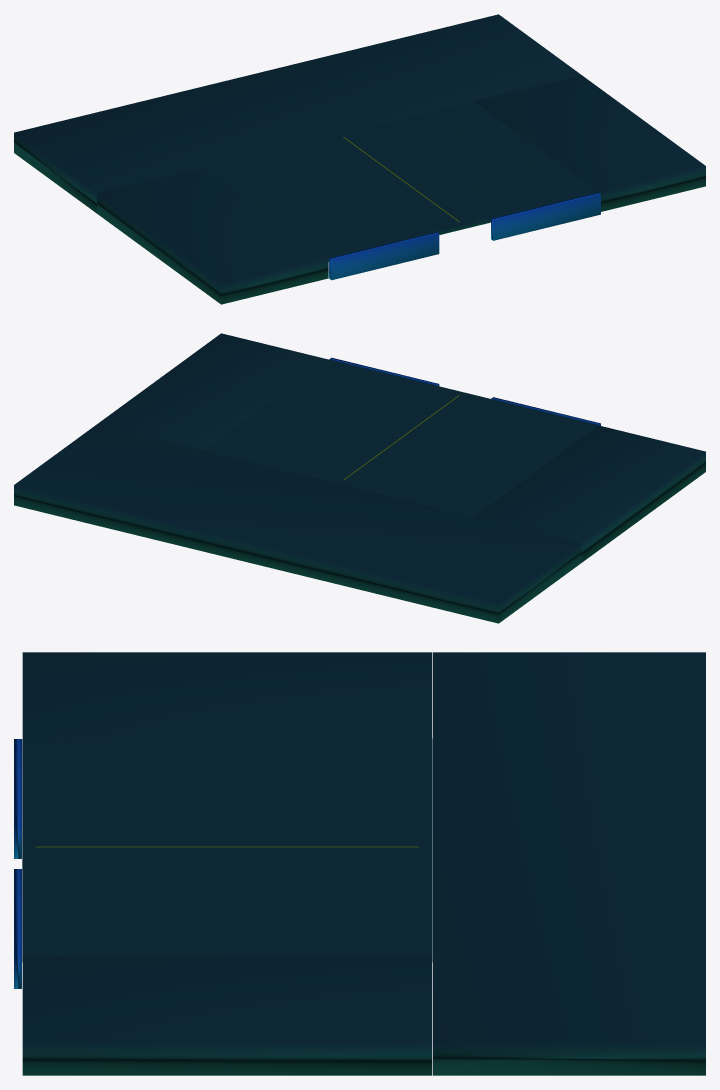
Rendered from court_ground.glb.
3 views of the same model, one above another, from view 1: azimuth 30°, elevation 25°; view 2: azimuth 150°, elevation 25°; view 3: azimuth 270°, elevation 25° (orthographic). The views are drawn at different scales.
Visible parts, largest first — view 1: court_ground; view 2: court_ground; view 3: court_ground.
Boxes of the visible parts, x1,y1,x2,y2 form: court_ground: (14,14,705,304); court_ground: (14,333,705,623); court_ground: (14,652,705,1075).
Size of what is drawn, in the model's own units: 53.97 by 2.19 by 40.47.
